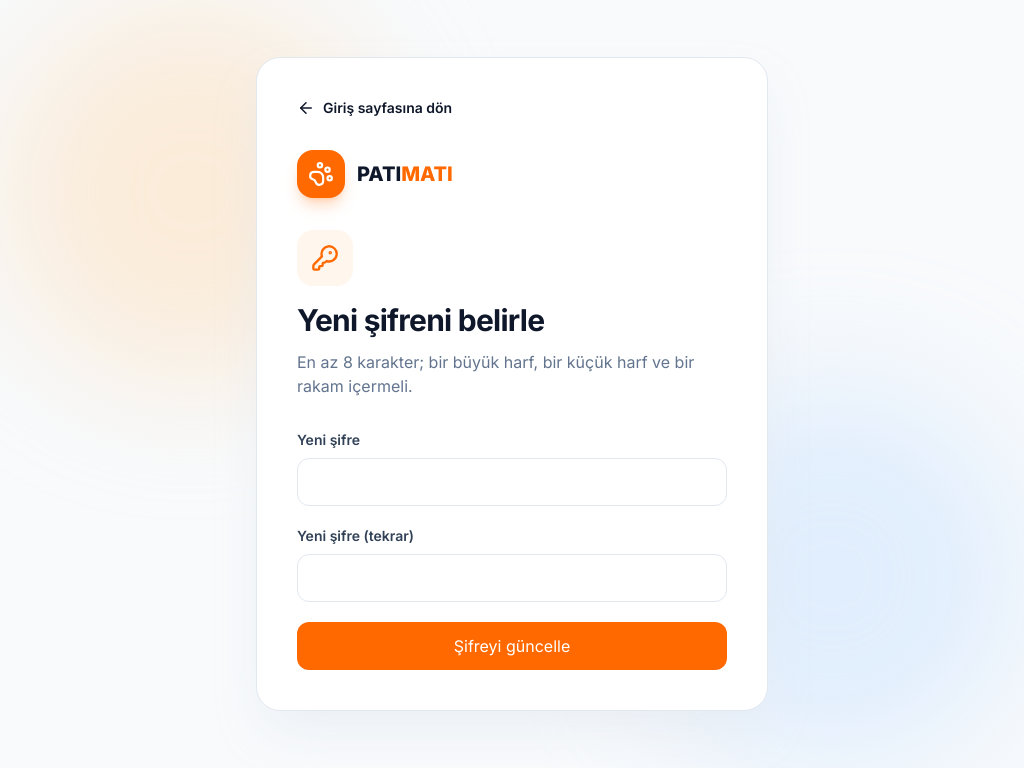
Test: ResetPasswordPage › politikaya uymayan şifrede istek GİTMEZ (küçük harf + rakam ama büyük harf yok)
The image size is (1024, 768).
Type "yenisifre1" into the password field labelled "Yeni şifre" at (512,482), box [297,458,727,506]
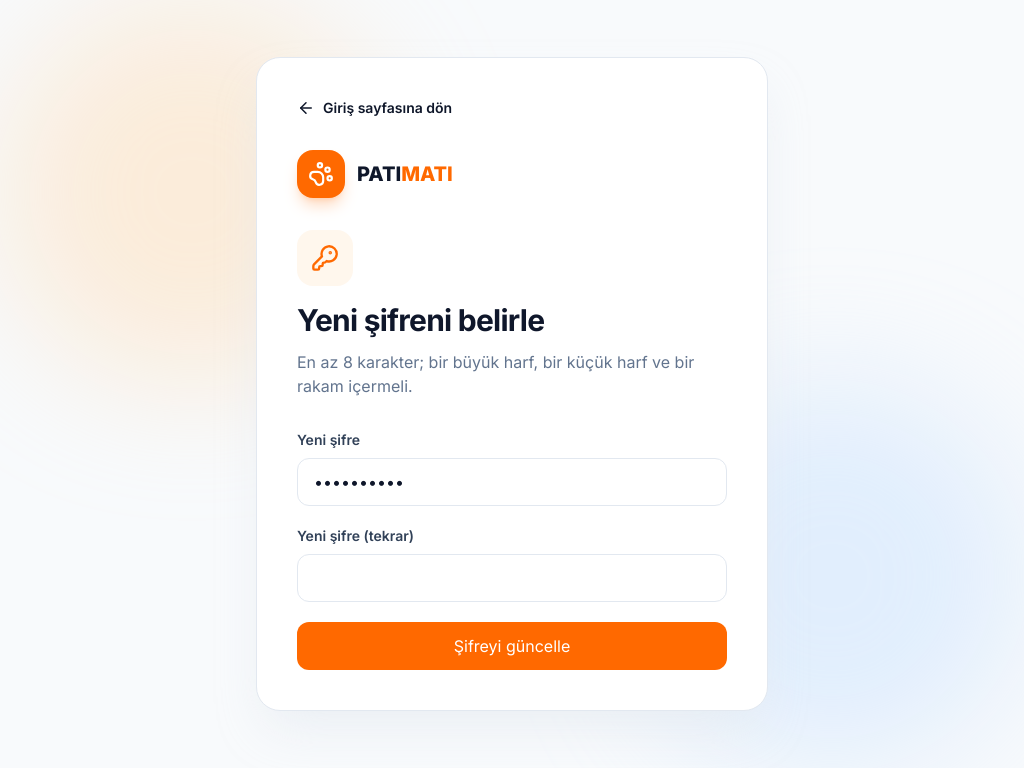
Type "yenisifre1" into the password field labelled "Yeni şifre (tekrar)" at (512,578), box [297,554,727,602]
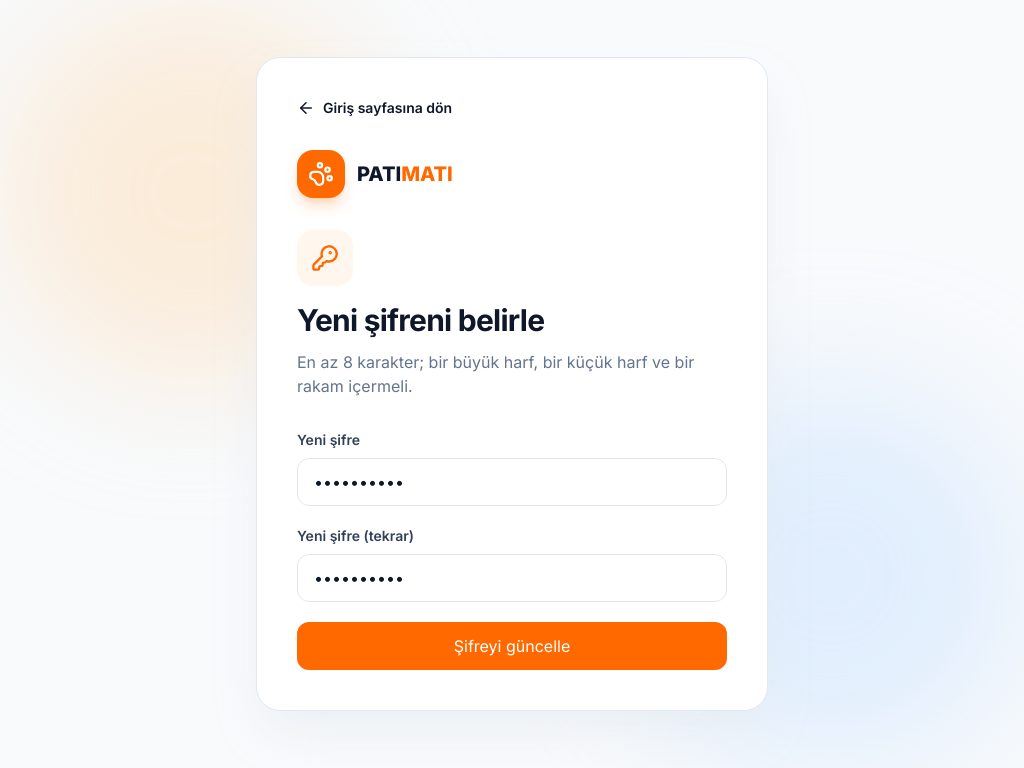
Click the button "Şifreyi güncelle" at (512,646), box [297,622,727,670]
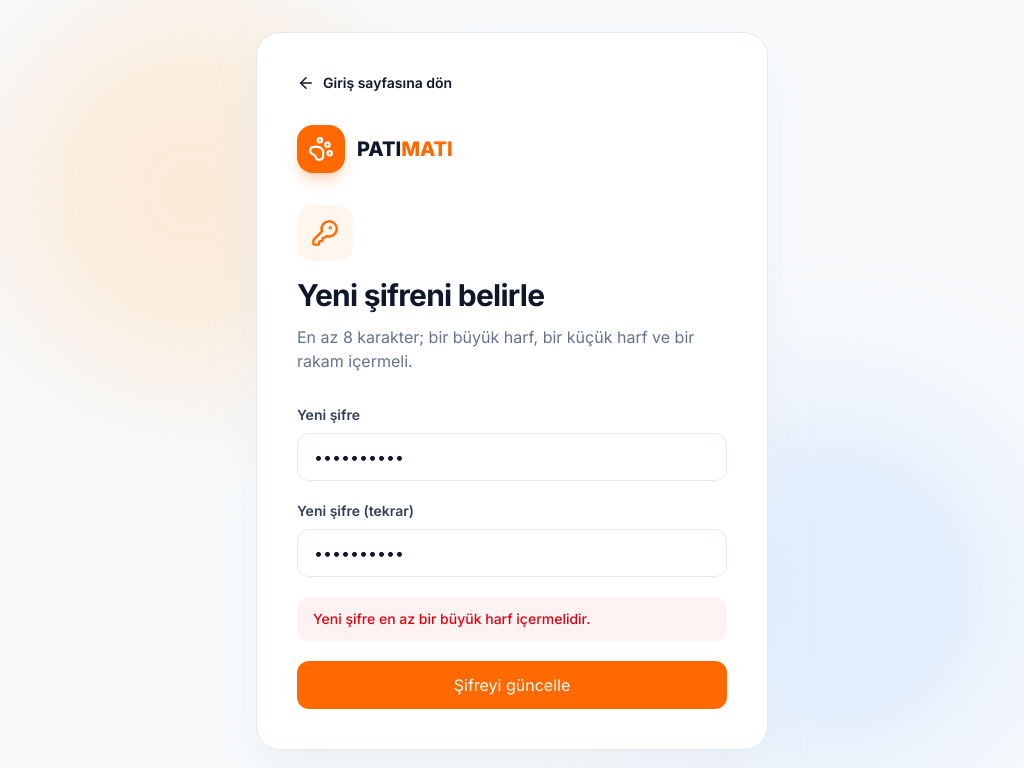
Expected: the message reads "Yeni şifre en az bir büyük harf içermelidir.", [313,610,590,627]
